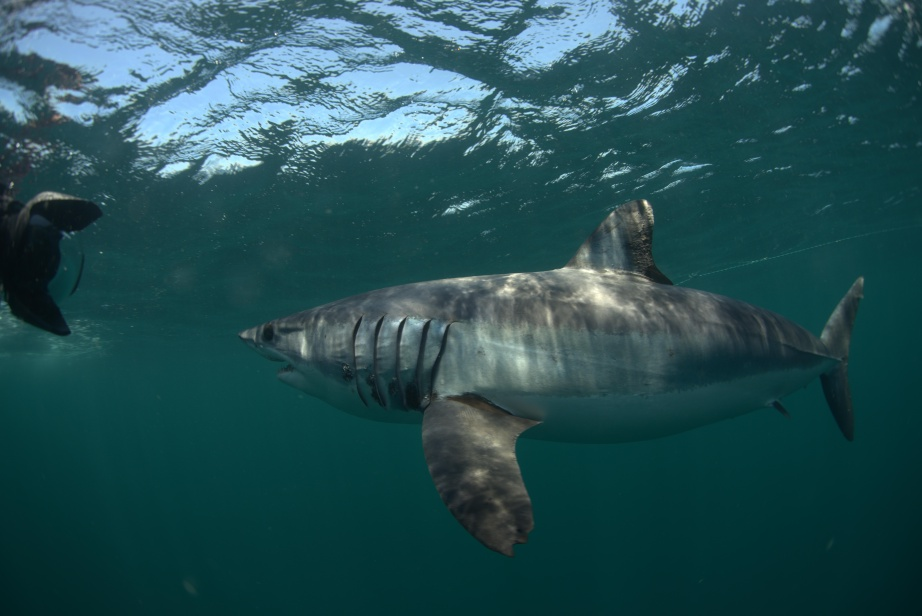Mako: (224, 193, 879, 562)
